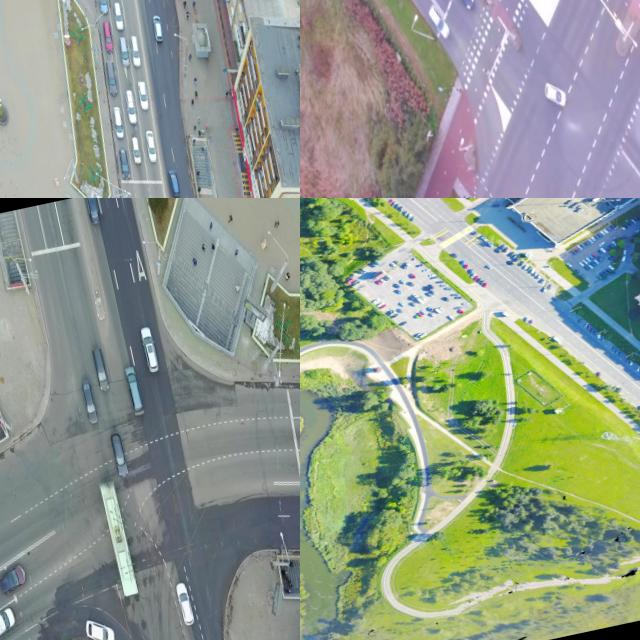UAI: (123, 365, 146, 417), (139, 324, 161, 373), (108, 430, 130, 477), (426, 3, 451, 42), (0, 562, 29, 595), (82, 613, 117, 640), (174, 581, 195, 626), (80, 379, 99, 426), (542, 78, 569, 111), (91, 346, 110, 391), (126, 32, 145, 71), (121, 87, 140, 125), (143, 127, 161, 166), (103, 58, 121, 96), (109, 104, 127, 139), (0, 604, 18, 639), (116, 145, 133, 182), (150, 12, 168, 46), (99, 18, 116, 54), (135, 78, 151, 113), (166, 166, 182, 198), (128, 135, 144, 167), (110, 1, 126, 32), (116, 35, 131, 68), (446, 0, 475, 11), (94, 0, 111, 14)
car: (98, 479, 139, 597)
